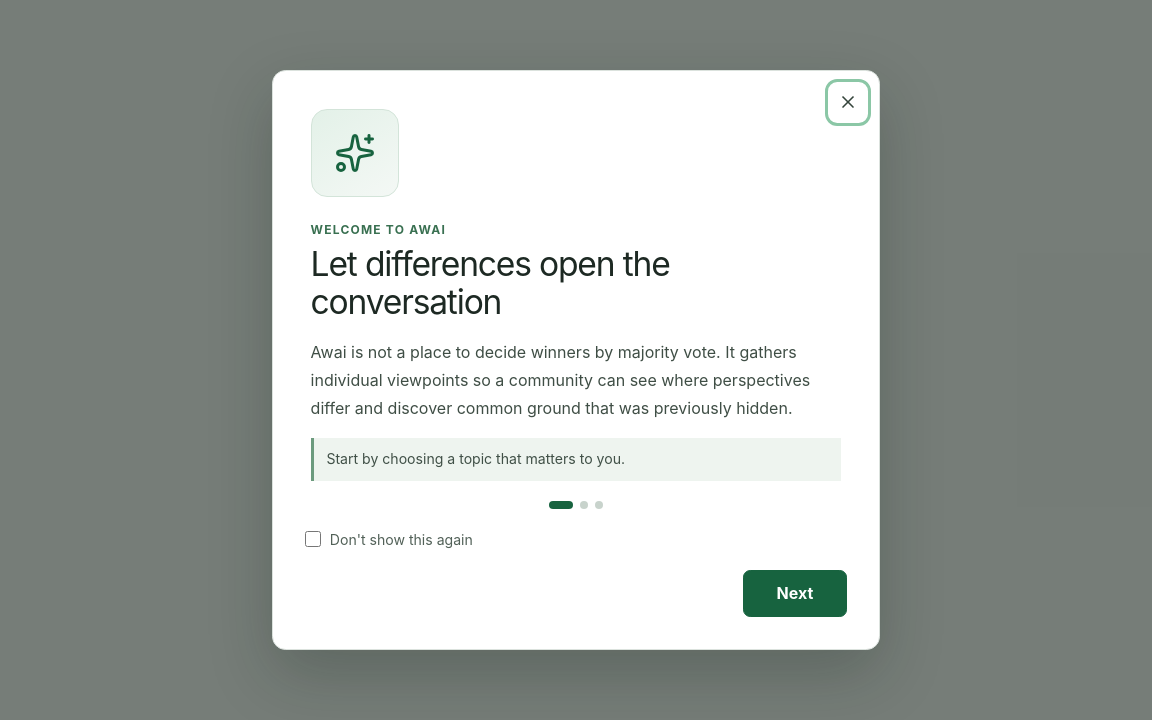
it: OnboardingDialog › walks a first-time user through every page
This screenshot has width=1152, height=720.
Expected: the heading "Let differences open the conversation" is shown, [311,242,670,322]
Click the button "Next". click: (795, 593)
box: [743,570,847,617]
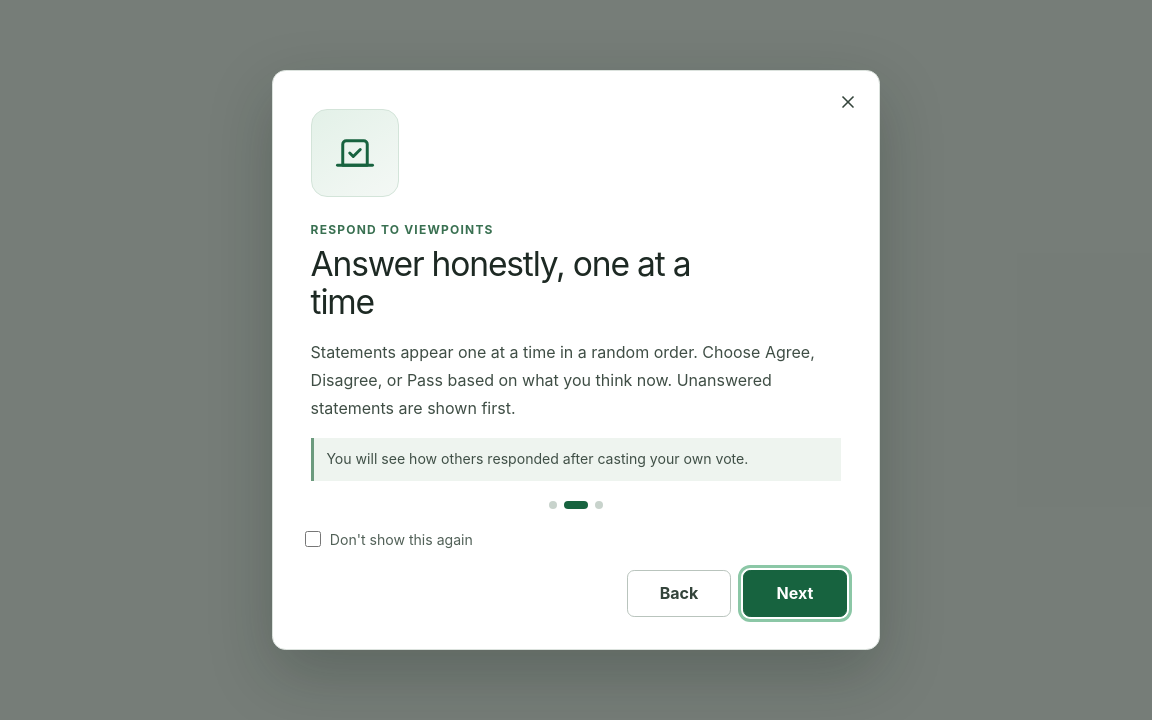
Now the heading "Answer honestly, one at a time" is shown, box [311,242,690,322]
Click the button "Next". click: (795, 593)
box: [743,570,847,617]
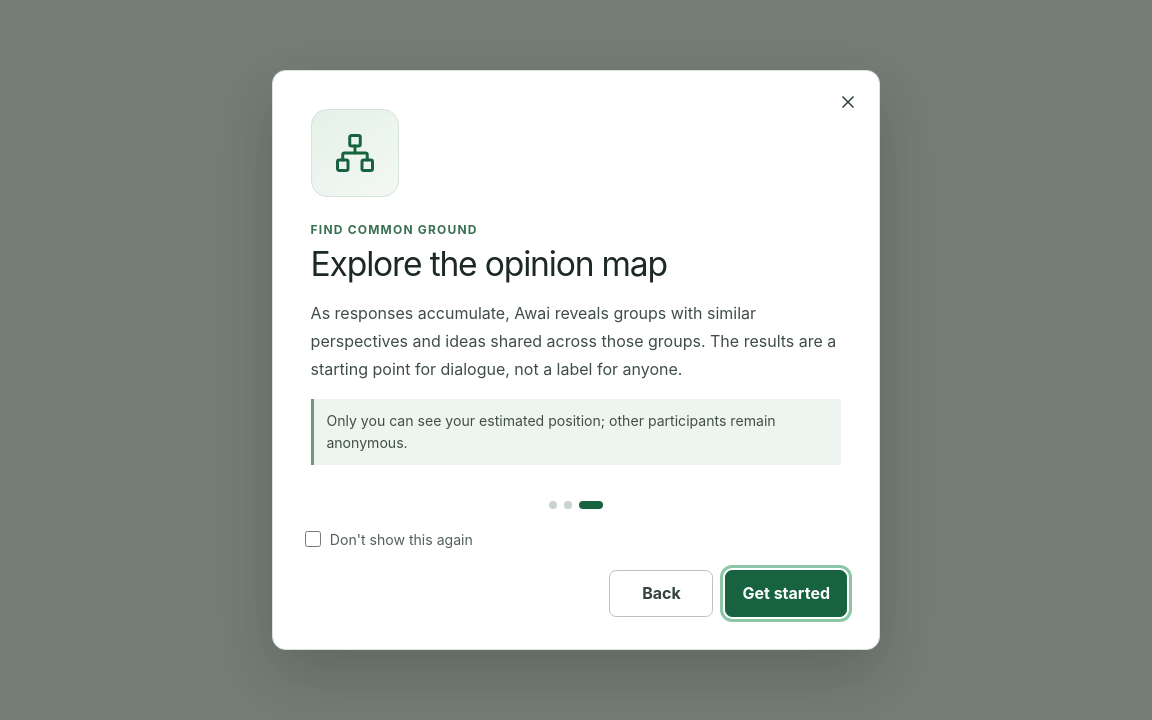
Now the heading "Explore the opinion map" is shown, box [311,242,667,284]
